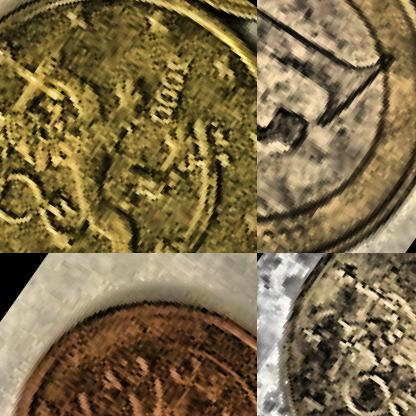coin: (0, 0, 256, 252), (0, 253, 256, 415), (257, 0, 415, 252), (257, 253, 415, 415)
